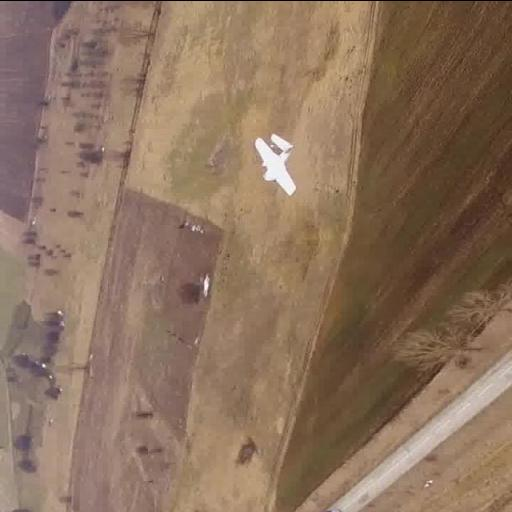uav: (250, 132, 310, 202)
